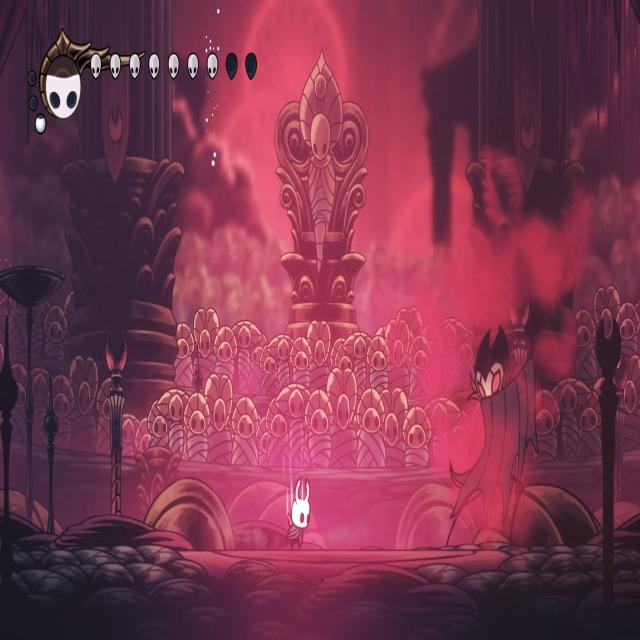Dash Uppercut: (441, 318, 544, 552)
Player: (283, 473, 313, 549)
